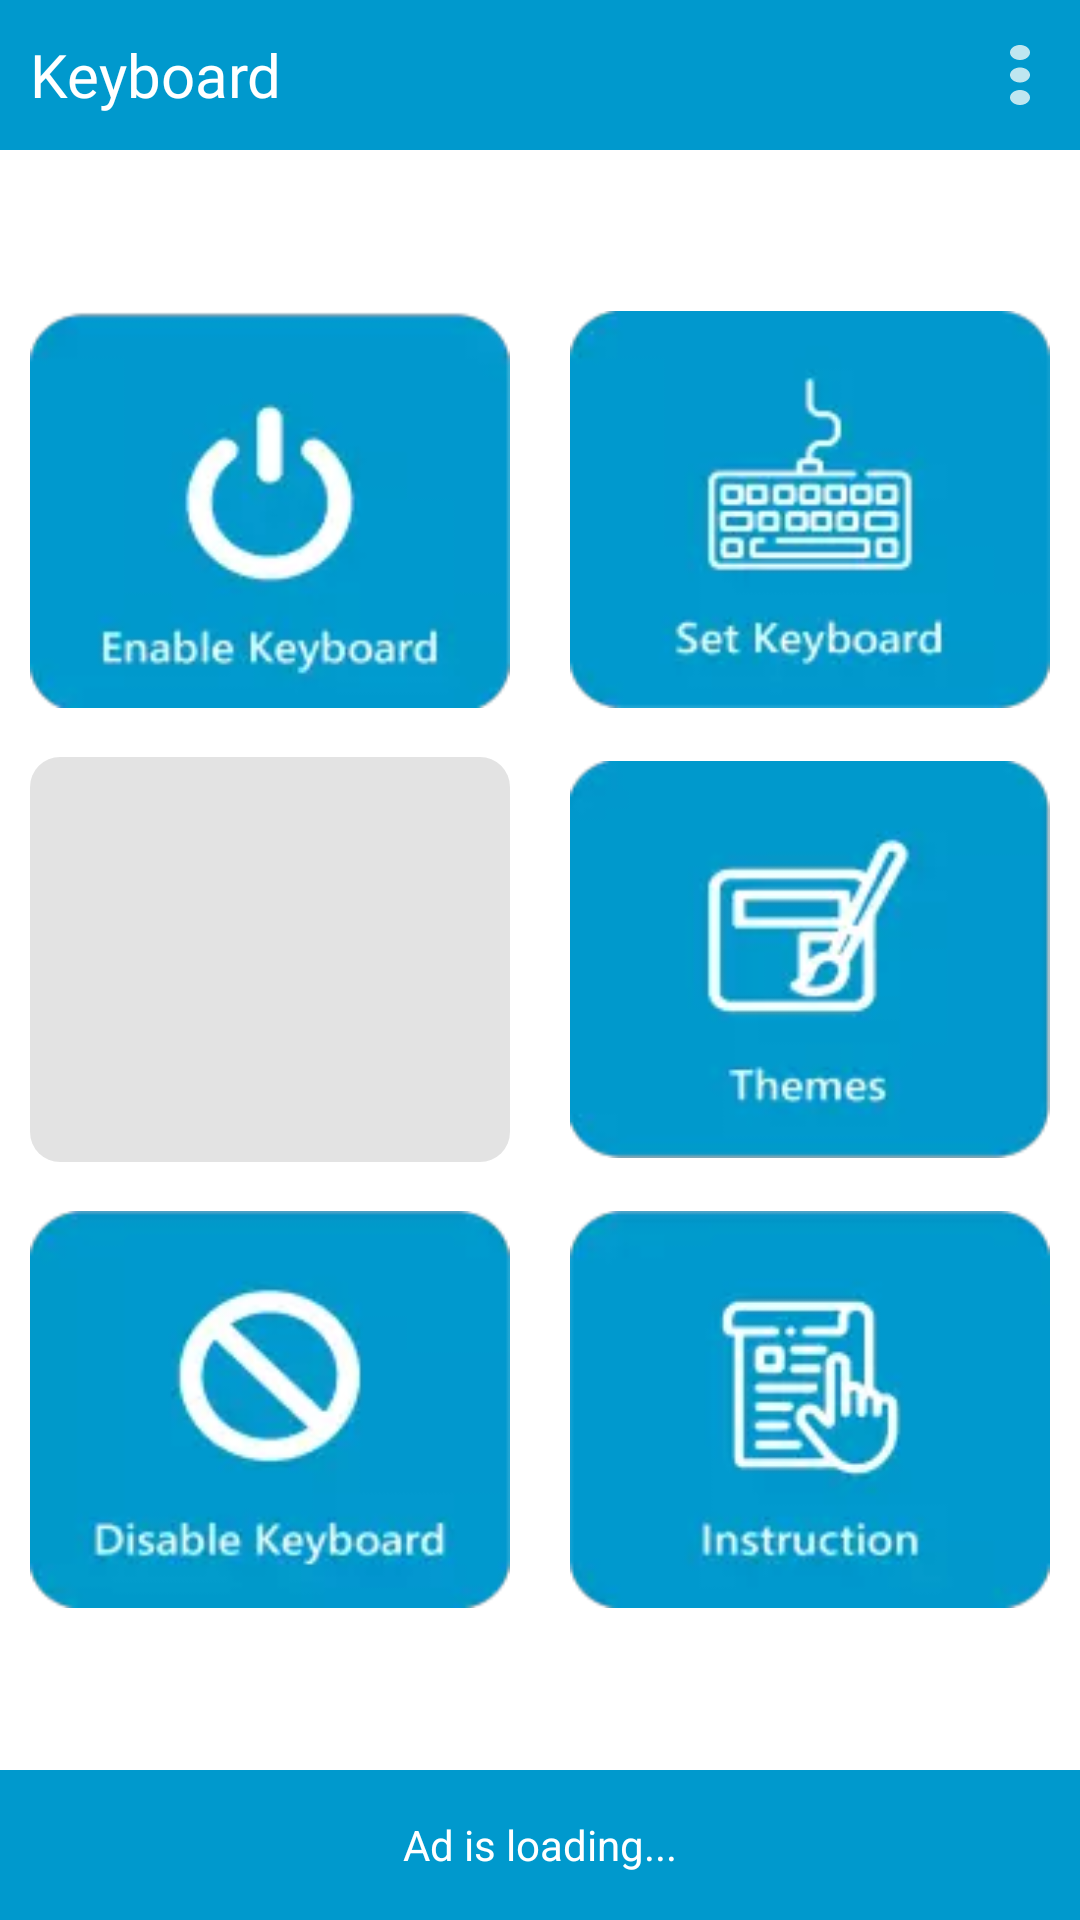

Locate icon controls on the screen. Image size 1080*1920, boxes as rect(x1, y1, x2, y2).
more vert: rect(1010, 45, 1030, 105)
